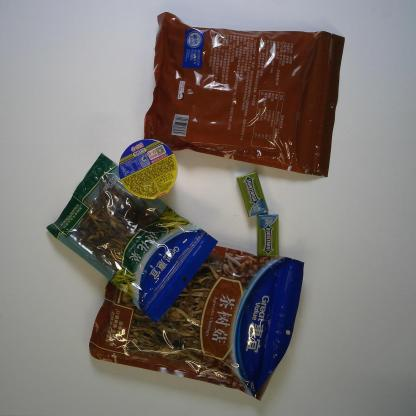Dried Food: (87, 243, 306, 404), (138, 10, 347, 178), (44, 150, 218, 325)
Gum: (236, 168, 270, 220), (255, 212, 280, 260)
Instant Noodles: (117, 136, 181, 200)
